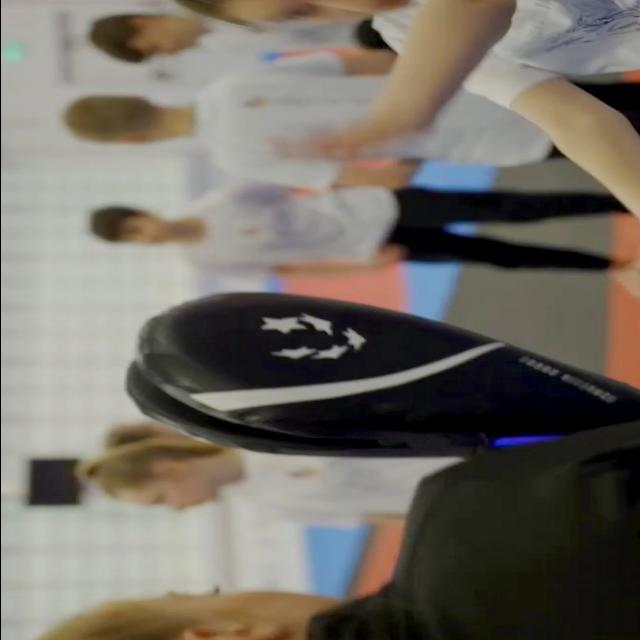paddle: (116, 289, 640, 461)
